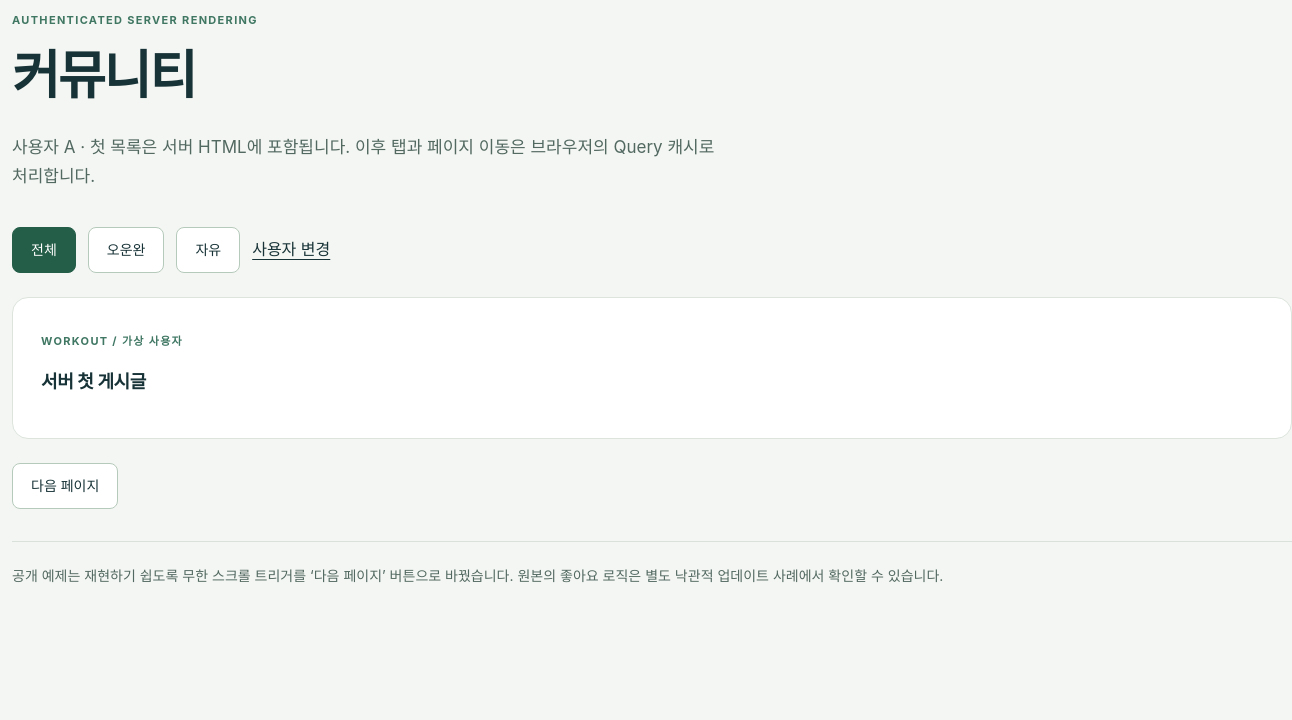
Test: 서버 첫 목록 이후의 상호작용 › 탭과 다음 페이지 요청이 기존 목록에 이어짐
What coordinates should you click on to do the following:
click the button "오운완"
I would click on:
 (126, 250)
Its box is [88,227,164,273].
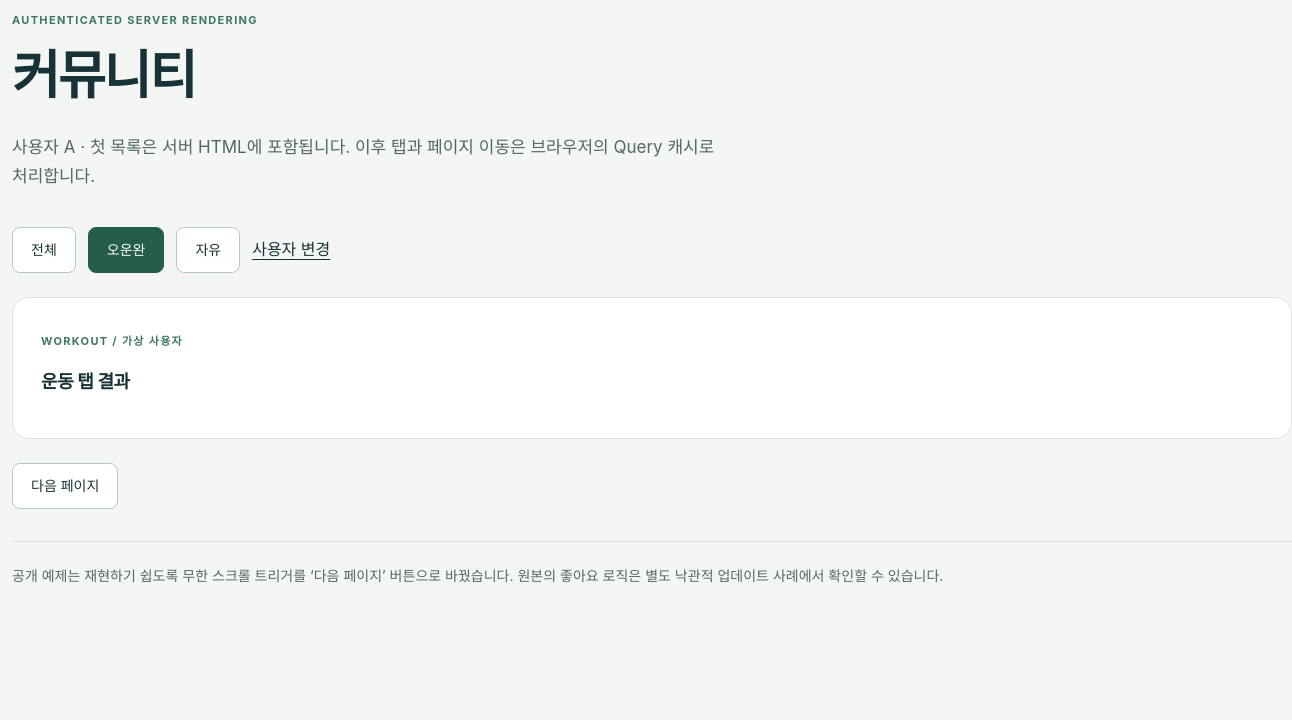
Expected: the heading "운동 탭 결과" is shown, [41,371,130,392]
What coordinates should you click on to do the following:
click the button "다음 페이지"
I would click on:
 (65, 486)
Its box is [12,463,118,509].
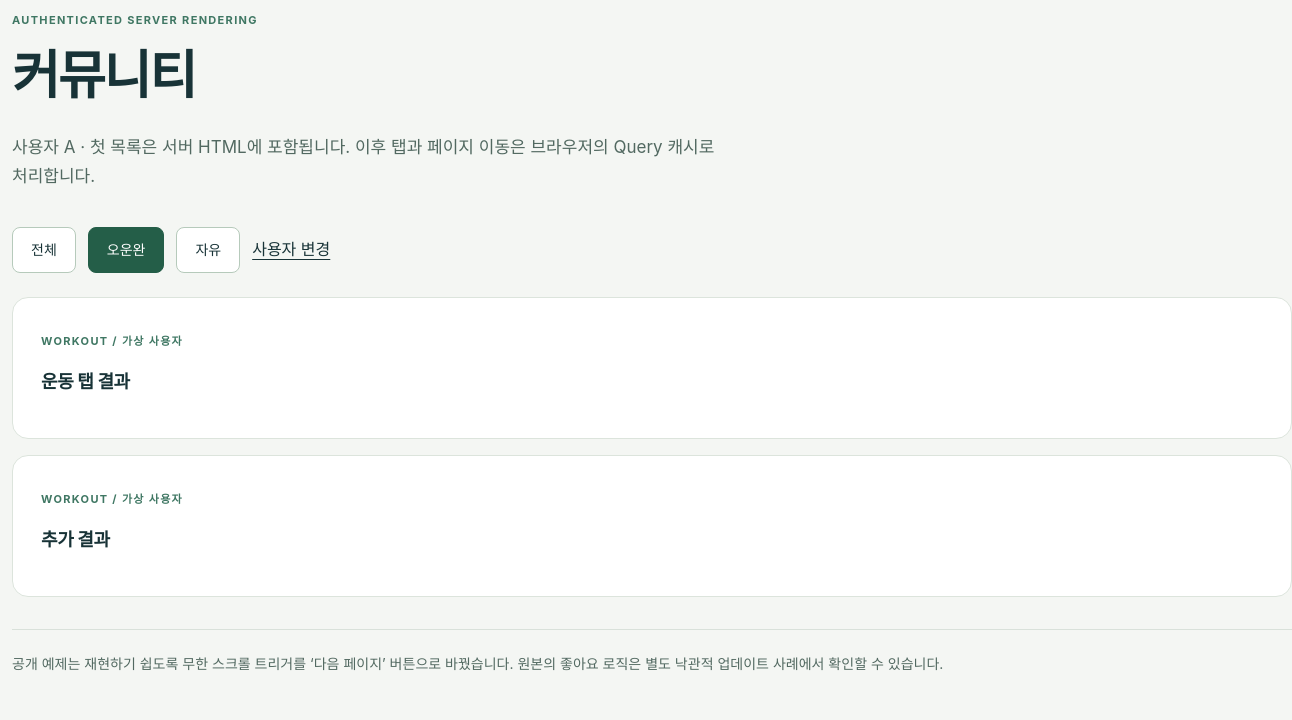
Expected: the heading "운동 탭 결과" is shown, [41,371,130,392]
Expected: the heading "추가 결과" is shown, [41,529,110,550]
